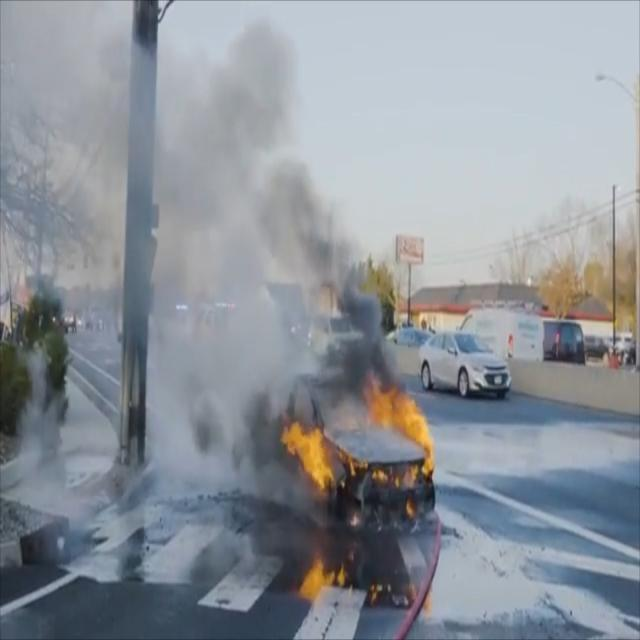fire: (286, 374, 440, 506), (292, 552, 414, 601)
